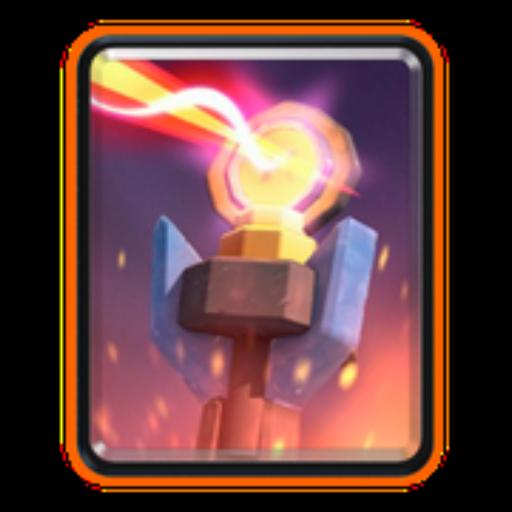inferno-tower: (88, 63, 418, 461)
